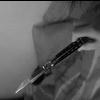melee: (8, 14, 100, 94)
